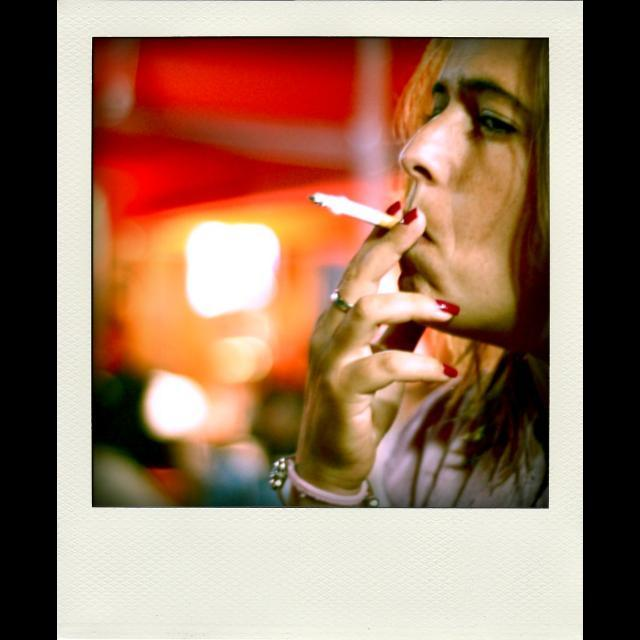rokok: (308, 180, 404, 236)
